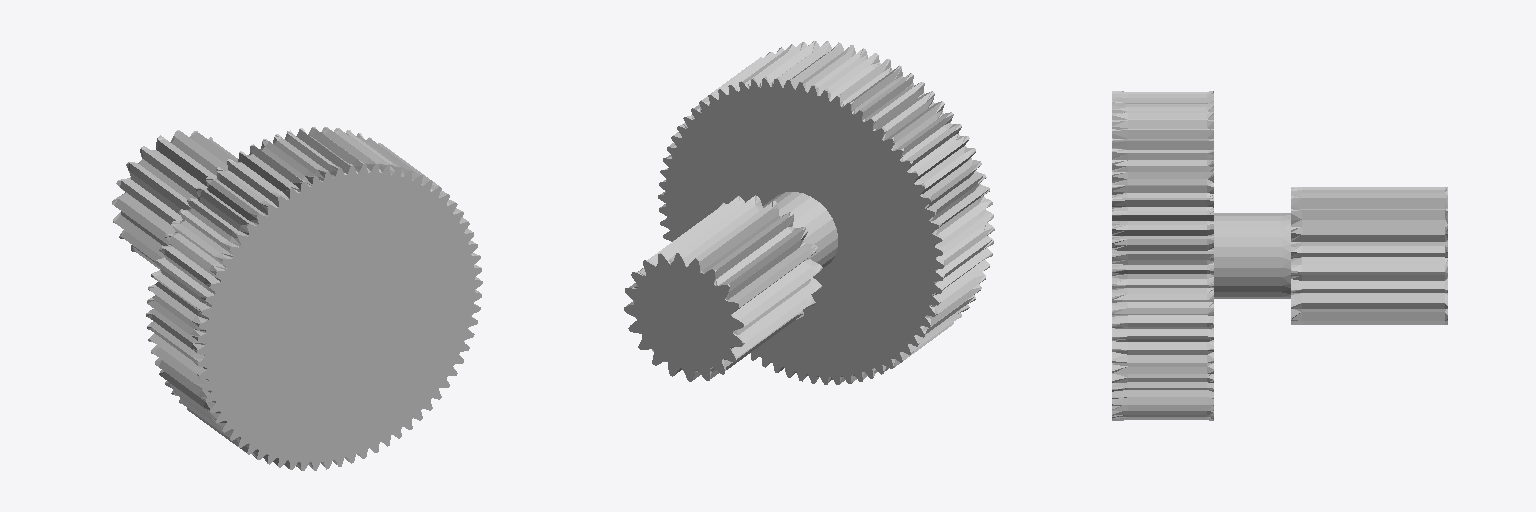
File: pargear2_and_3.obj
The picture shows the model from 3 angles: view 1: azimuth 30°, elevation 25°; view 2: azimuth 150°, elevation 25°; view 3: azimuth 270°, elevation 25°; orthographic projection.
Parts seen in each view (by area): view 1: 2, 1; view 2: 2, 1; view 3: 2, 1.
Part boxes in pixels (left/top/right/bottom): 2: left=146, top=127, right=482, bottom=470; 1: left=112, top=130, right=237, bottom=268; 2: left=658, top=41, right=994, bottom=384; 1: left=624, top=192, right=837, bottom=381; 2: left=1112, top=91, right=1213, bottom=420; 1: left=1214, top=187, right=1447, bottom=324.
Bounding box in the file's own units: 388 × 388 × 395.